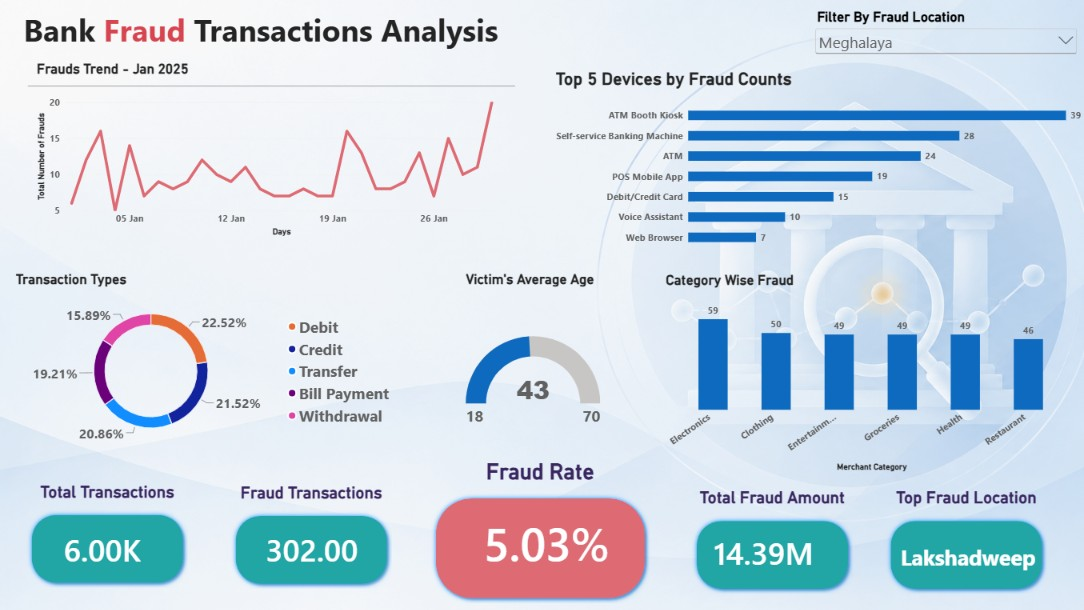

What the dashboard file says about the page in this screenshot:
{"tool":"powerbi","page":{"name":"Page 1","canvas":[1920,1080],"ordinal":0},"visuals":[{"type":"shape","title":"Total Transactions","box":[65.2,845.7,281.7,185],"z":0},{"type":"textbox","box":[60,21.7,856.7,76.7],"z":1000},{"type":"shape","title":"Fraud Transactions","box":[419.6,847.8,281.7,185],"z":2000},{"type":"shape","title":"Fraud Rate","box":[769.6,806.5,382.6,252.2],"z":3000},{"type":"shape","title":"Total Fraud Amount","box":[1223.9,856.5,281.7,185],"z":4000},{"type":"cardVisual","fields":{"Data":["bankdb transactions.Fraud %"]},"box":[845.7,882.6,306.5,134.8],"z":6000},{"type":"cardVisual","fields":{"Data":["bankdb transactions.Total customers"]},"box":[89.1,895.7,258.7,134.8],"z":7000},{"type":"cardVisual","fields":{"Data":["bankdb transactions.Total Victim Customers"]},"box":[465.2,895.7,237,134.8],"z":8000},{"type":"lineChart","title":"Frauds Trend - Jan 2025","fields":{"Category":["bankdb transactions.transaction_date"],"Y":["Sum(bankdb transactions.is_fraud)"]},"box":[65.9,97.9,850.7,334.6],"z":10000},{"type":"donutChart","title":"Transaction Types","fields":{"Category":["bankdb transactions.transaction_type"],"Y":["Sum(bankdb transactions.is_fraud)"]},"box":[29.7,464,692.4,334.9],"z":11000},{"type":"slicer","fields":{"Values":["bankdb transactions.state"]},"box":[1436,20.9,465.7,105],"z":12000},{"type":"gauge","title":"Victim''s Average Age","fields":{"MaxValue":["Max(bankdb transactions.age)1"],"MinValue":["Min(bankdb transactions.age)"],"Y":["Median(bankdb transactions.age)"]},"box":[814.5,464,266.7,376.7],"z":13000},{"type":"columnChart","title":"Category Wise Fraud","fields":{"Category":["bankdb transactions.merchant_category"],"Y":["Sum(bankdb transactions.is_fraud)"]},"box":[1164,466,738,378],"z":14000},{"type":"clusteredBarChart","title":"Top 5 Devices by Fraud Counts","fields":{"Category":["bankdb transactions.transaction_device"],"Y":["Sum(bankdb transactions.is_fraud)"]},"box":[971.5,111.6,948.8,347.1],"z":15000},{"type":"cardVisual","fields":{"Data":["bankdb transactions.total fraud amount"]},"box":[1247.8,932.6,250,71.7],"z":16000},{"type":"shape","title":"Top Fraud Location","box":[1563,856.5,281.7,185],"z":17000},{"type":"textbox","box":[1589.1,932.6,278.3,97.8],"z":18000}]}

Visuals, with their boxes in screenshot pixels (x1, y1, x2, y2), scaled from the page's 1920x1080 canvas onto the 1084x610 screenshot:
"Total Transactions" shape: bbox(37, 478, 196, 582)
textbox: bbox(34, 12, 518, 56)
"Fraud Transactions" shape: bbox(237, 479, 396, 583)
"Fraud Rate" shape: bbox(435, 456, 651, 598)
"Total Fraud Amount" shape: bbox(691, 484, 850, 588)
cardVisual - bankdb transactions.Fraud %: bbox(477, 499, 651, 575)
cardVisual - bankdb transactions.Total customers: bbox(50, 506, 196, 582)
cardVisual - bankdb transactions.Total Victim Customers: bbox(263, 506, 396, 582)
"Frauds Trend - Jan 2025" lineChart: bbox(37, 55, 517, 244)
"Transaction Types" donutChart: bbox(17, 262, 408, 451)
slicer - bankdb transactions.state: bbox(811, 12, 1074, 71)
"Victim''s Average Age" gauge: bbox(460, 262, 610, 475)
"Category Wise Fraud" columnChart: bbox(657, 263, 1074, 477)
"Top 5 Devices by Fraud Counts" clusteredBarChart: bbox(548, 63, 1083, 259)
cardVisual - bankdb transactions.total fraud amount: bbox(704, 527, 846, 567)
"Top Fraud Location" shape: bbox(882, 484, 1041, 588)
textbox: bbox(897, 527, 1054, 582)
